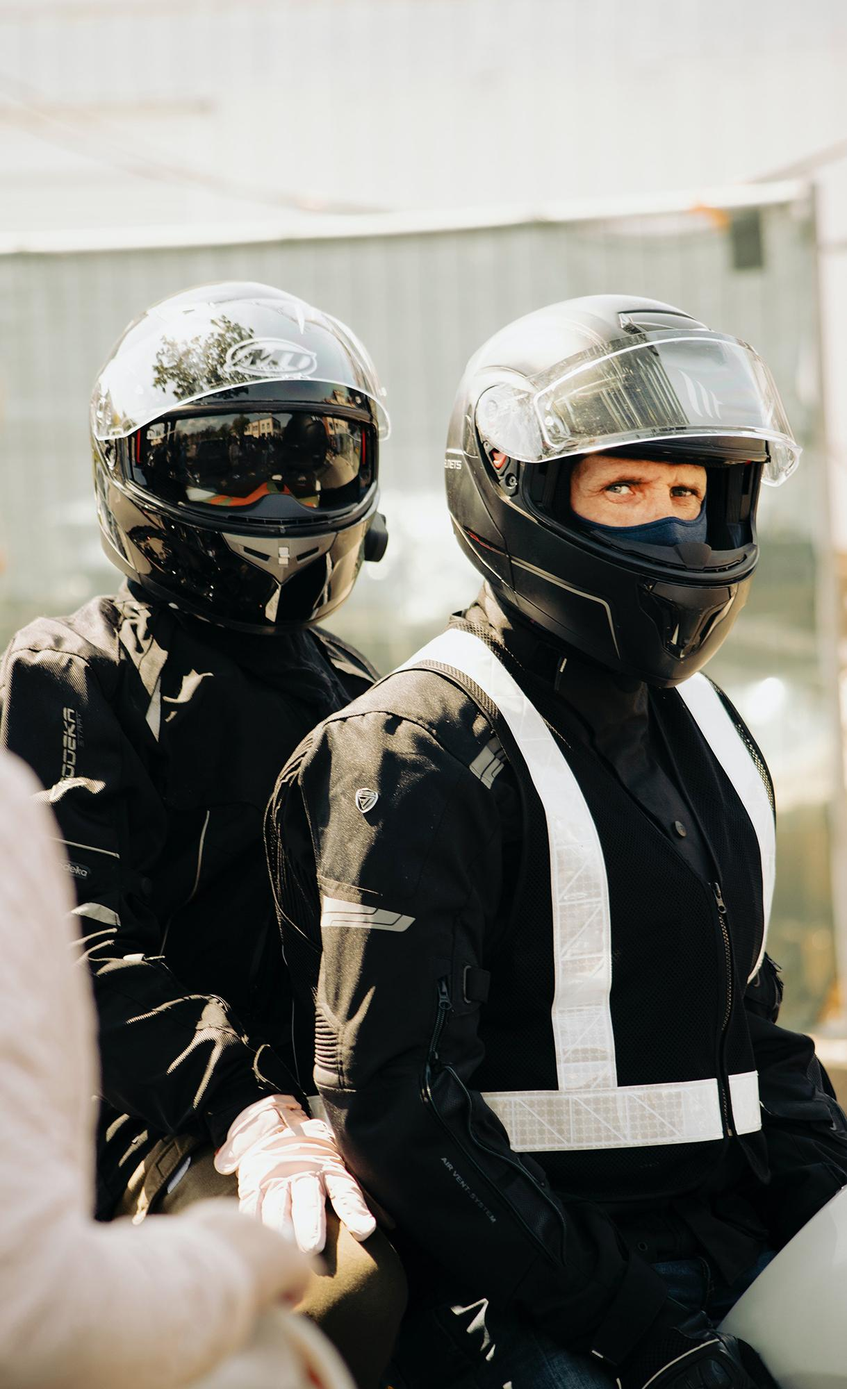helmet: (441, 291, 806, 691), (85, 278, 390, 639)
